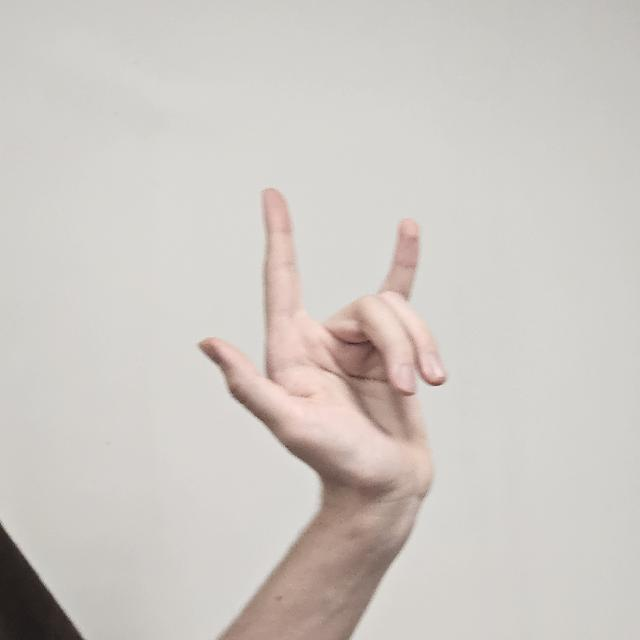Cima: (196, 183, 444, 514)
